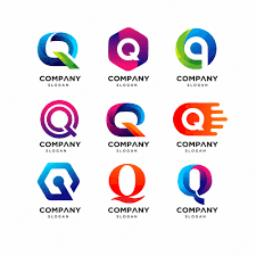q: (31, 27, 85, 71), (34, 158, 82, 204), (102, 160, 152, 204), (35, 94, 81, 140), (104, 99, 152, 141), (173, 156, 213, 206), (182, 35, 214, 71), (114, 36, 142, 64)
